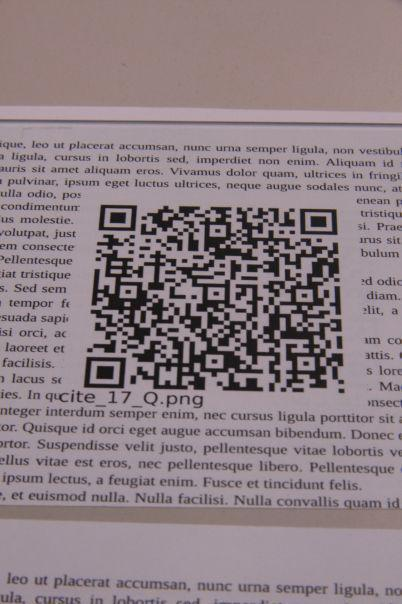qr_code: (83, 204, 345, 394)
